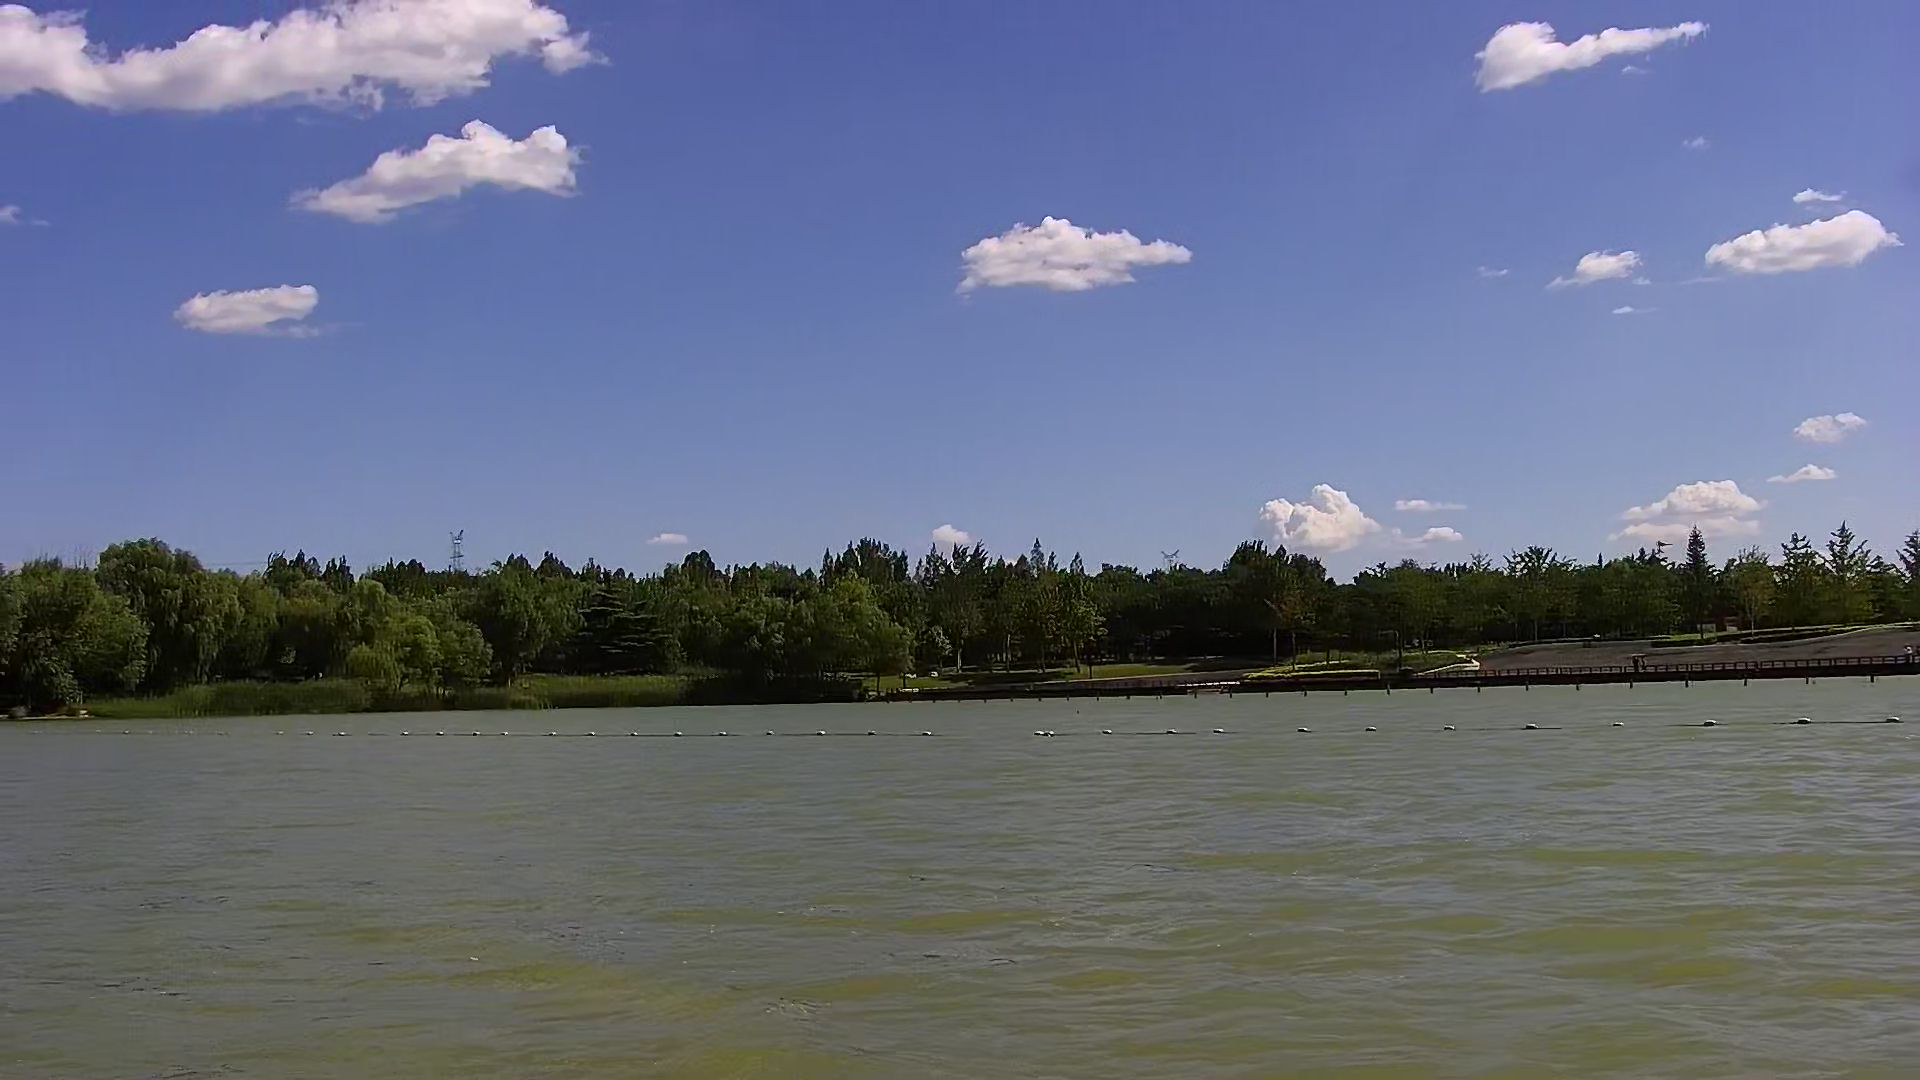ball: (1511, 713, 1549, 735), (1698, 712, 1724, 735), (1880, 711, 1904, 729), (1796, 711, 1815, 731)
harbor: (1447, 626, 1920, 691)
